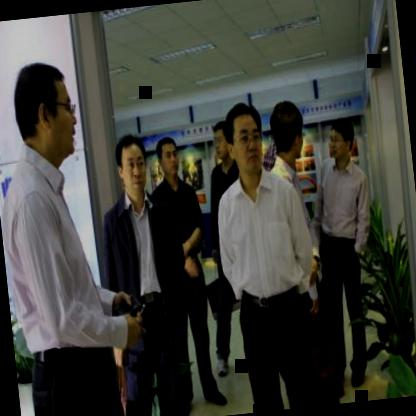head: (6, 53, 82, 169), (222, 95, 268, 181), (111, 127, 152, 203), (267, 96, 307, 167), (154, 131, 183, 184), (326, 113, 354, 164), (208, 118, 232, 169)
